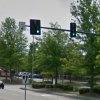Traffic light: (20, 9, 80, 45)
